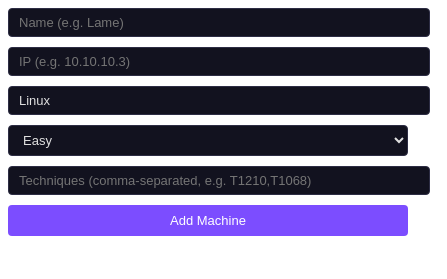
MachineForm › shows error when submitted with empty name
The width and height of the screenshot is (447, 279).
Click the button "Add Machine".
click(208, 220)  # box [8,205,408,236]
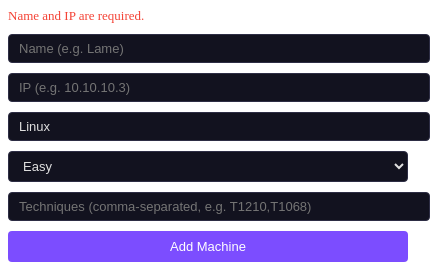
Result: the text "Name and IP are required." is shown at [8,8,144,23]
